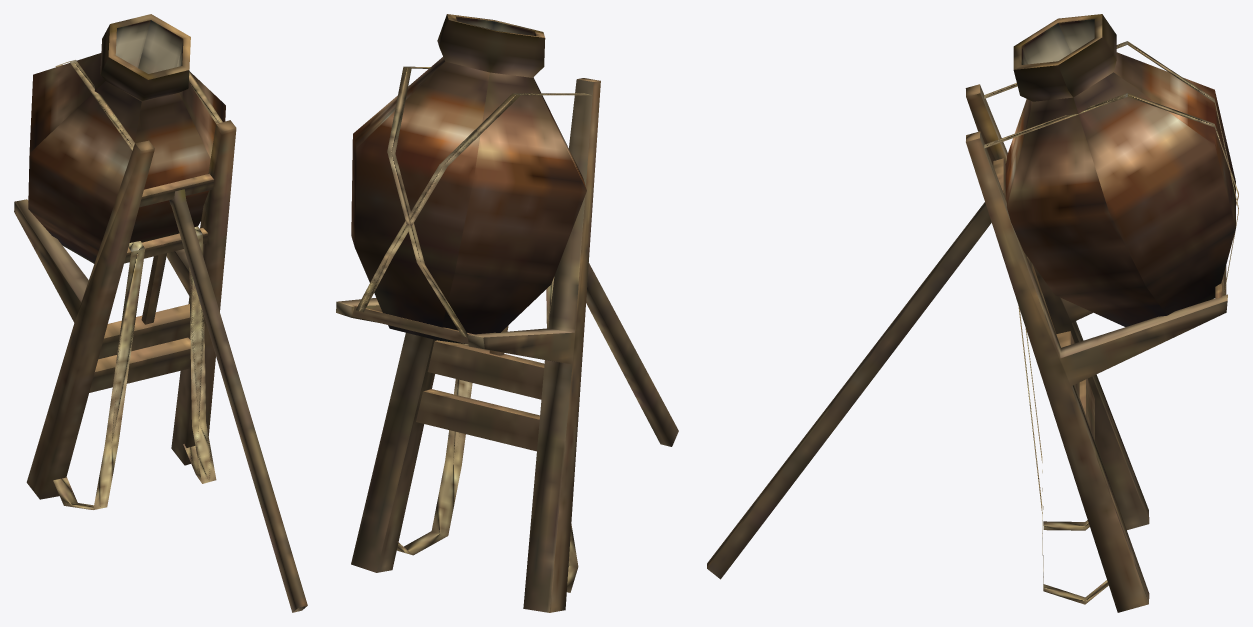
Rendered from b_general_obj_10.fbx.
The picture shows the model from 3 angles, left to right: view 1: azimuth 30°, elevation 25°; view 2: azimuth 150°, elevation 25°; view 3: azimuth 270°, elevation 25°; orthographic projection. The views are drawn at different scales.
Parts seen in each view (by area): view 1: Box02; view 2: Box02; view 3: Box02.
Boxes of the visible parts, x1,y1,x2,y2 form: Box02: [14, 14, 307, 612]; Box02: [336, 14, 678, 612]; Box02: [707, 14, 1238, 612].
Bounding box in the file's own units: 0.9218 × 2.12 × 1.86.
